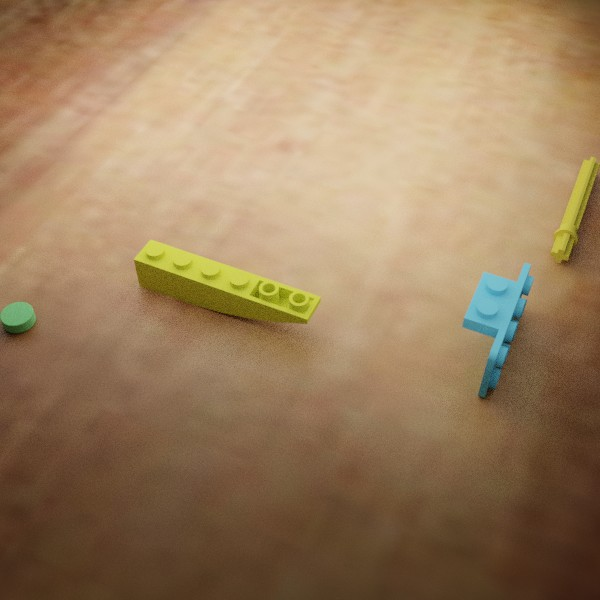lego: (133, 239, 321, 324), (461, 262, 534, 398), (550, 156, 600, 263), (0, 301, 35, 333)
